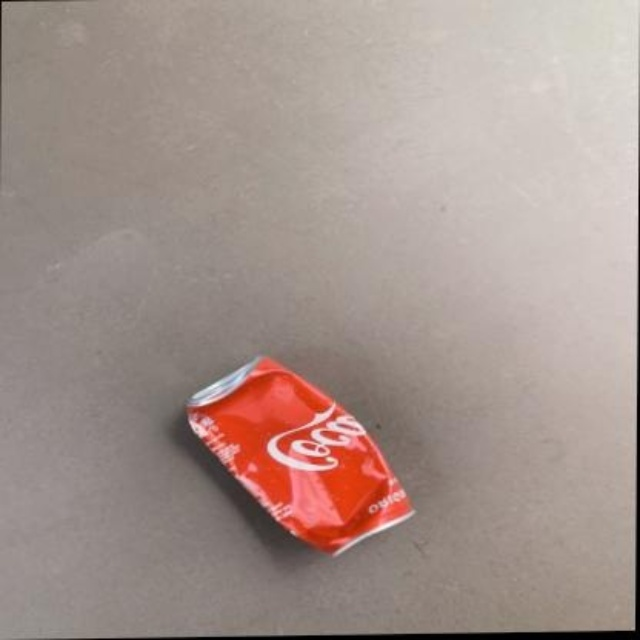trash: (188, 355, 412, 554)
